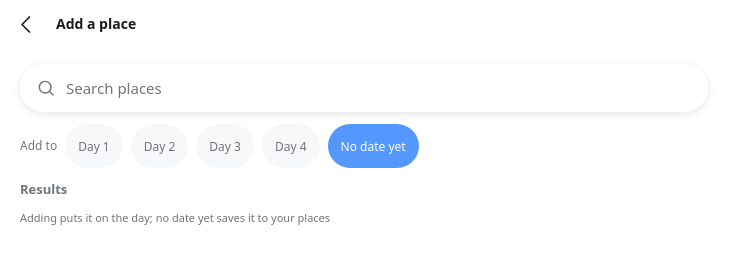
Test: FE-305-T2 the screen renders each state › reports a failed search instead of showing nothing
Type "서울" into the search field at (378, 88), box [64, 64, 692, 112]
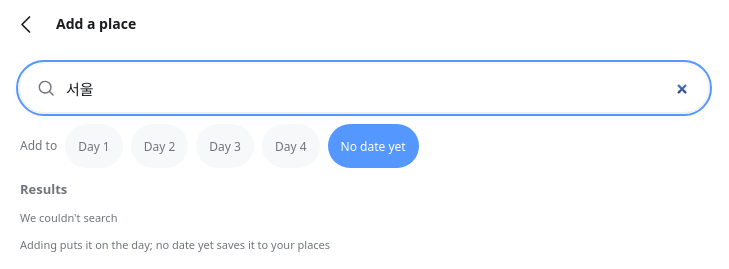
Now the message reads "We couldn't search", box [20, 210, 118, 225]
